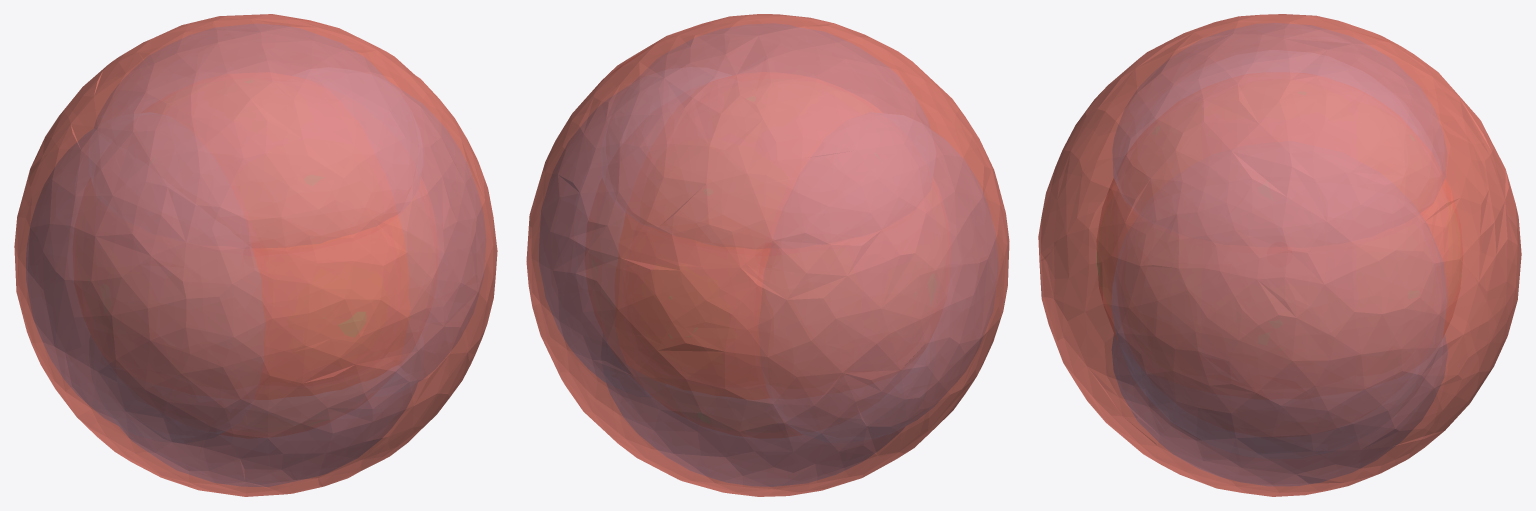
The model's file is orbital.glb.
3 renders of one model, left to right at view 1: azimuth 30°, elevation 25°; view 2: azimuth 150°, elevation 25°; view 3: azimuth 270°, elevation 25°, orthographic.
Visible parts, largest first — view 1: Ge_n4_s_ml0_node, Ge_n4_p_ml-1_node, Ge_n4_p_ml1_node, Ge_n3_s_ml0_node; view 2: Ge_n4_s_ml0_node, Ge_n4_p_ml-1_node, Ge_n4_p_ml1_node, Ge_n3_s_ml0_node; view 3: Ge_n4_s_ml0_node, Ge_n4_p_ml-1_node, Ge_n4_p_ml1_node, Ge_n3_s_ml0_node.
Boxes of the visible parts, x1,y1,x2,y2 form: Ge_n4_s_ml0_node: (14,14,497,496); Ge_n4_p_ml-1_node: (94,24,418,486); Ge_n4_p_ml1_node: (26,84,485,440); Ge_n3_s_ml0_node: (253,215,410,399); Ge_n4_s_ml0_node: (526,14,1009,496); Ge_n4_p_ml-1_node: (606,24,929,486); Ge_n4_p_ml1_node: (539,86,997,439); Ge_n3_s_ml0_node: (615,213,770,399); Ge_n4_s_ml0_node: (1038,14,1521,496); Ge_n4_p_ml-1_node: (1112,23,1447,485); Ge_n4_p_ml1_node: (1112,209,1446,458); Ge_n3_s_ml0_node: (1096,179,1462,339).
Bounding box in the file's own units: 2.06 × 2.07 × 2.06.
